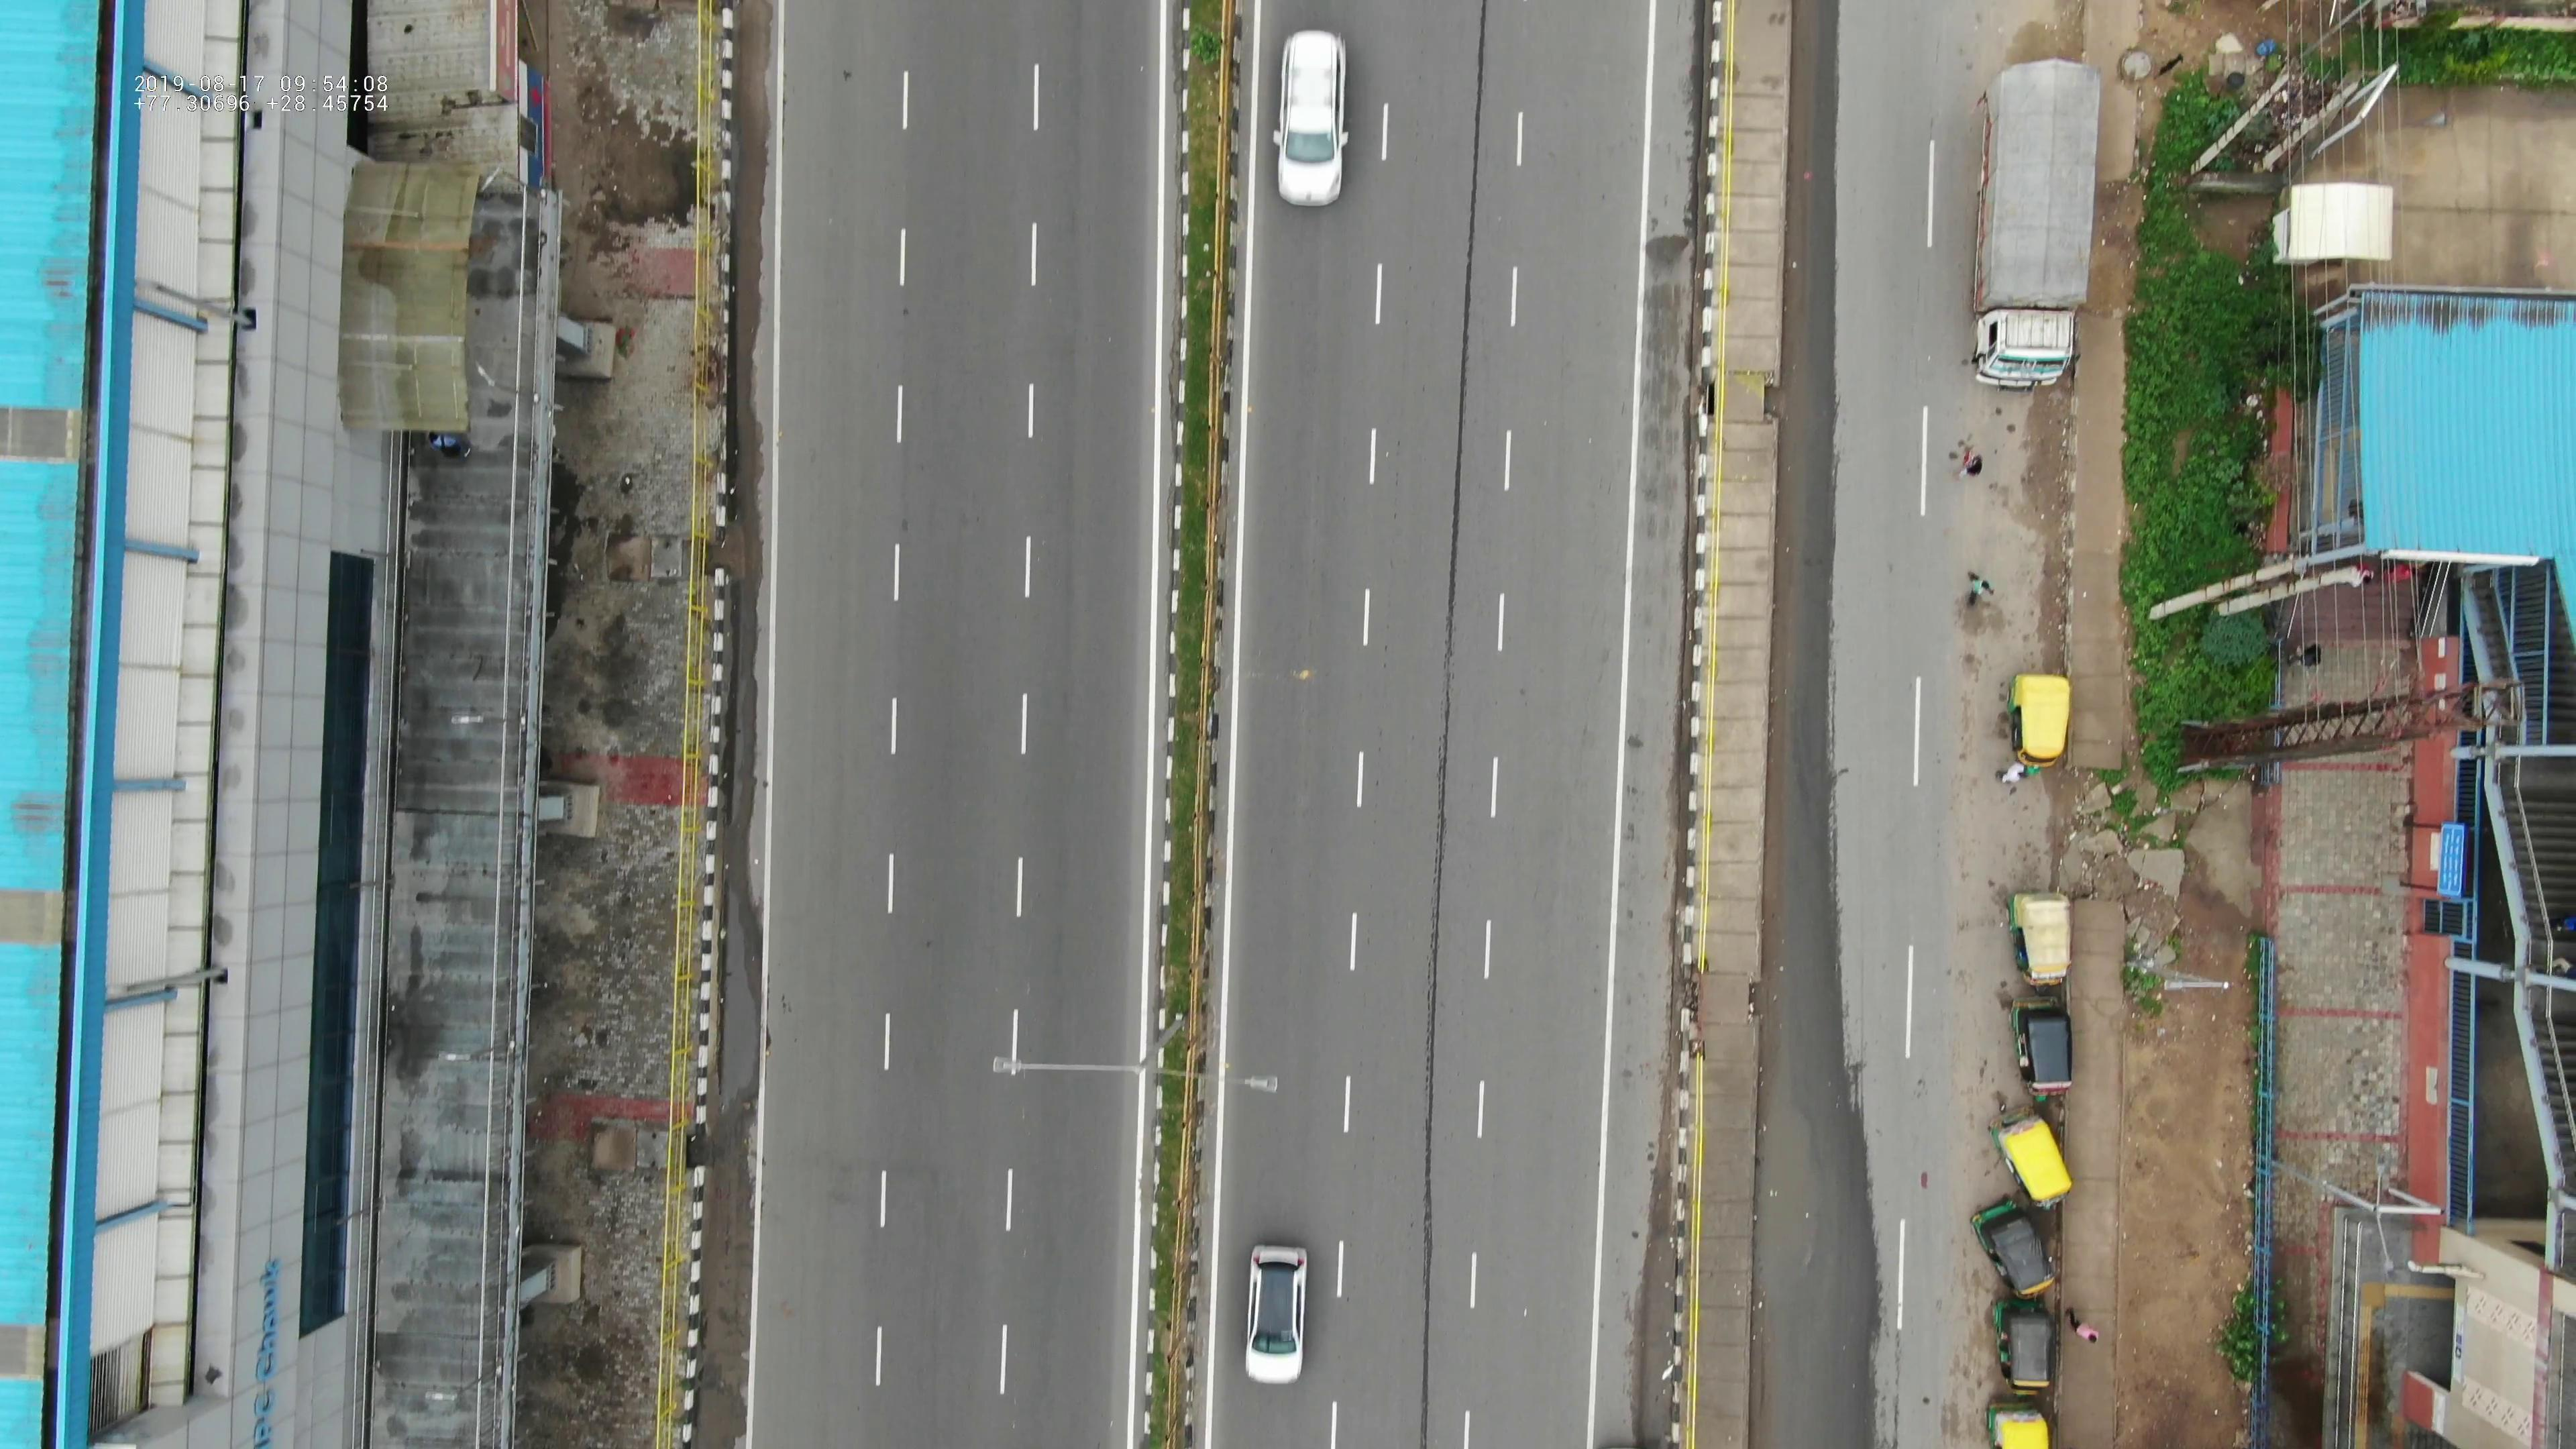Muddy_road: (2005, 405, 2082, 656)
